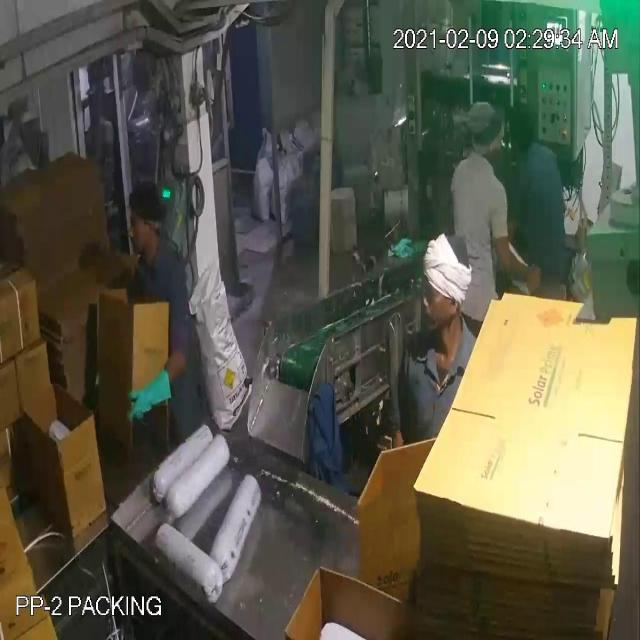Gloves: (124, 366, 182, 438)
